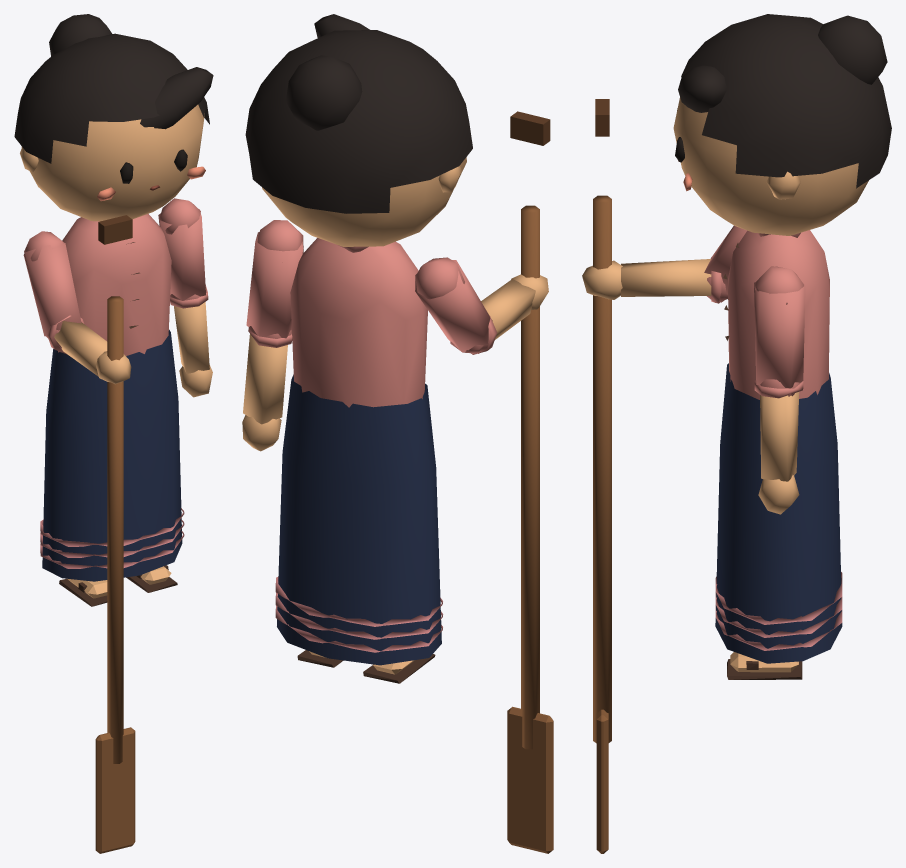
File: era1_boat_vendor.glb
3 renders of one model, left to right at view 1: azimuth 30°, elevation 25°; view 2: azimuth 150°, elevation 25°; view 3: azimuth 270°, elevation 25°, orthographic. The views are drawn at different scales.
Parts seen in each view (by area): view 1: body, head, prop_paddle, arm_R, arm_L, forearm_L, forearm_R, shin_R, shin_L; view 2: body, head, prop_paddle, arm_L, arm_R, forearm_L, forearm_R, shin_R; view 3: head, body, prop_paddle, arm_L, forearm_L, forearm_R, shin_L, arm_R.
Part boxes in pixels (<box>): body: <box>40,213,184,581</box>; head: <box>14,14,213,221</box>; prop_paddle: <box>95,215,135,853</box>; arm_R: <box>23,231,81,348</box>; arm_L: <box>158,198,207,300</box>; forearm_L: <box>170,285,212,397</box>; forearm_R: <box>47,315,131,384</box>; shin_R: <box>59,578,107,606</box>; shin_L: <box>126,565,177,592</box>; body: <box>275,238,443,665</box>; head: <box>245,14,472,246</box>; prop_paddle: <box>507,111,553,853</box>; arm_L: <box>246,220,303,338</box>; arm_R: <box>415,257,492,353</box>; forearm_L: <box>242,329,292,451</box>; forearm_R: <box>466,274,548,354</box>; shin_R: <box>363,654,435,683</box>; head: <box>673,14,891,235</box>; body: <box>715,230,842,663</box>; prop_paddle: <box>593,99,611,853</box>; arm_L: <box>754,266,805,396</box>; forearm_L: <box>754,380,803,514</box>; forearm_R: <box>582,257,725,303</box>; shin_L: <box>727,652,802,679</box>; arm_R: <box>704,225,747,302</box>.
Bounding box in the file's own units: 0.542 × 2 × 0.6479.
